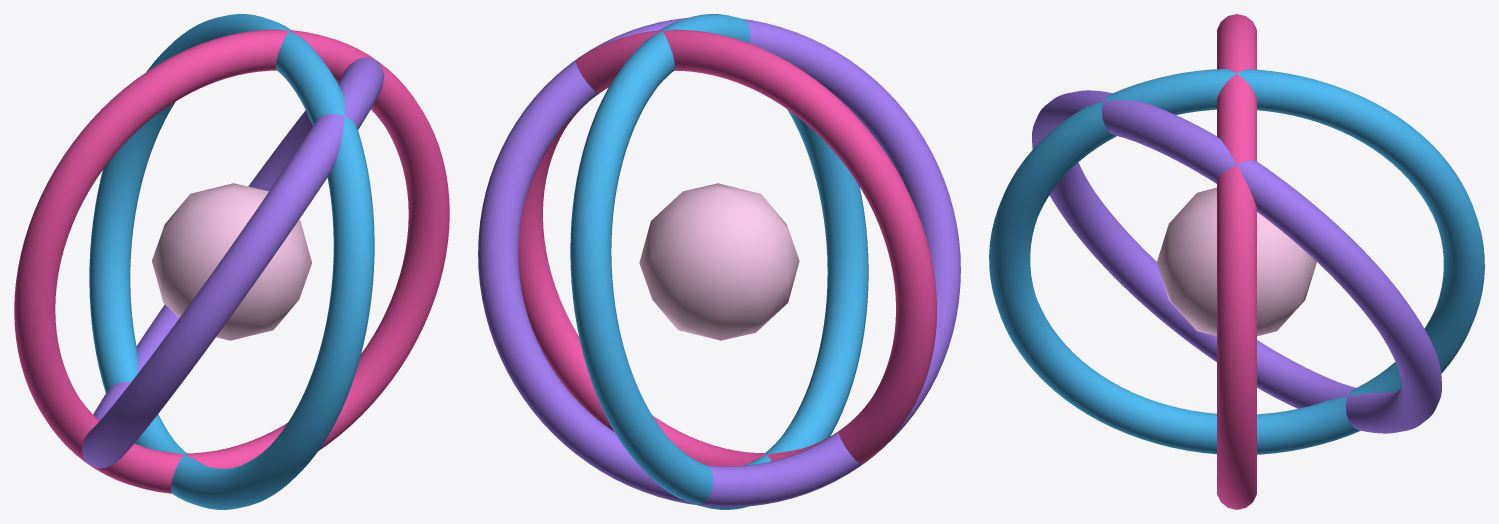
The model's file is study-orbit.glb.
3 views of the same model, side by side, from view 1: azimuth 30°, elevation 25°; view 2: azimuth 150°, elevation 25°; view 3: azimuth 270°, elevation 25° (orthographic).
Visible parts, largest first — view 1: VELORYZ / Orbital study; view 2: VELORYZ / Orbital study; view 3: VELORYZ / Orbital study.
Part boxes in pixels (left/top/right/bottom): VELORYZ / Orbital study: left=14, top=14, right=449, bottom=509; VELORYZ / Orbital study: left=478, top=14, right=960, bottom=509; VELORYZ / Orbital study: left=989, top=14, right=1484, bottom=509.
Bounding box in the file's own units: 2.29 × 2.29 × 2.29.
